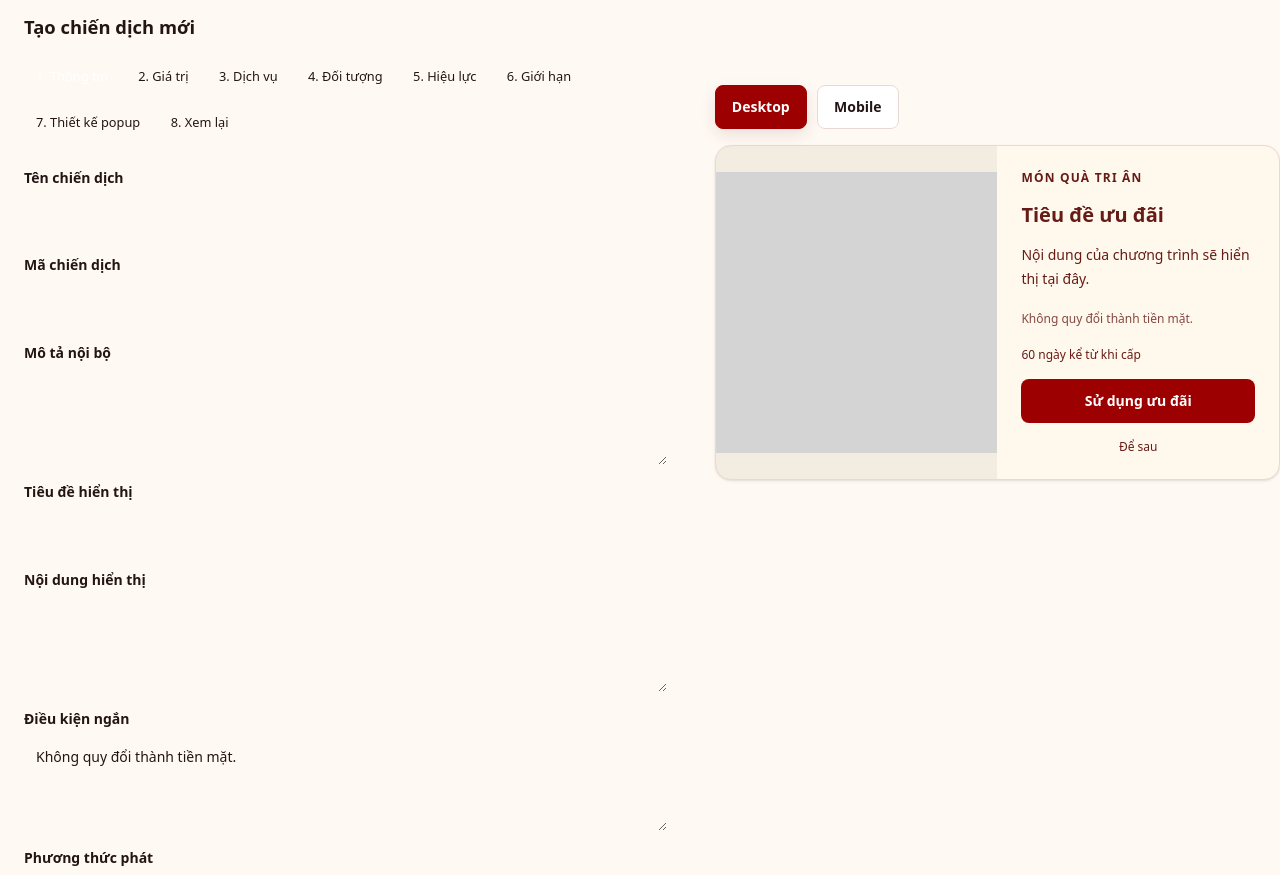
Test: explains account creation dates and rejects an empty audience interval
Step 1. Click the button "4. Đối tượng" → (345, 77), box [296,57,395,97]
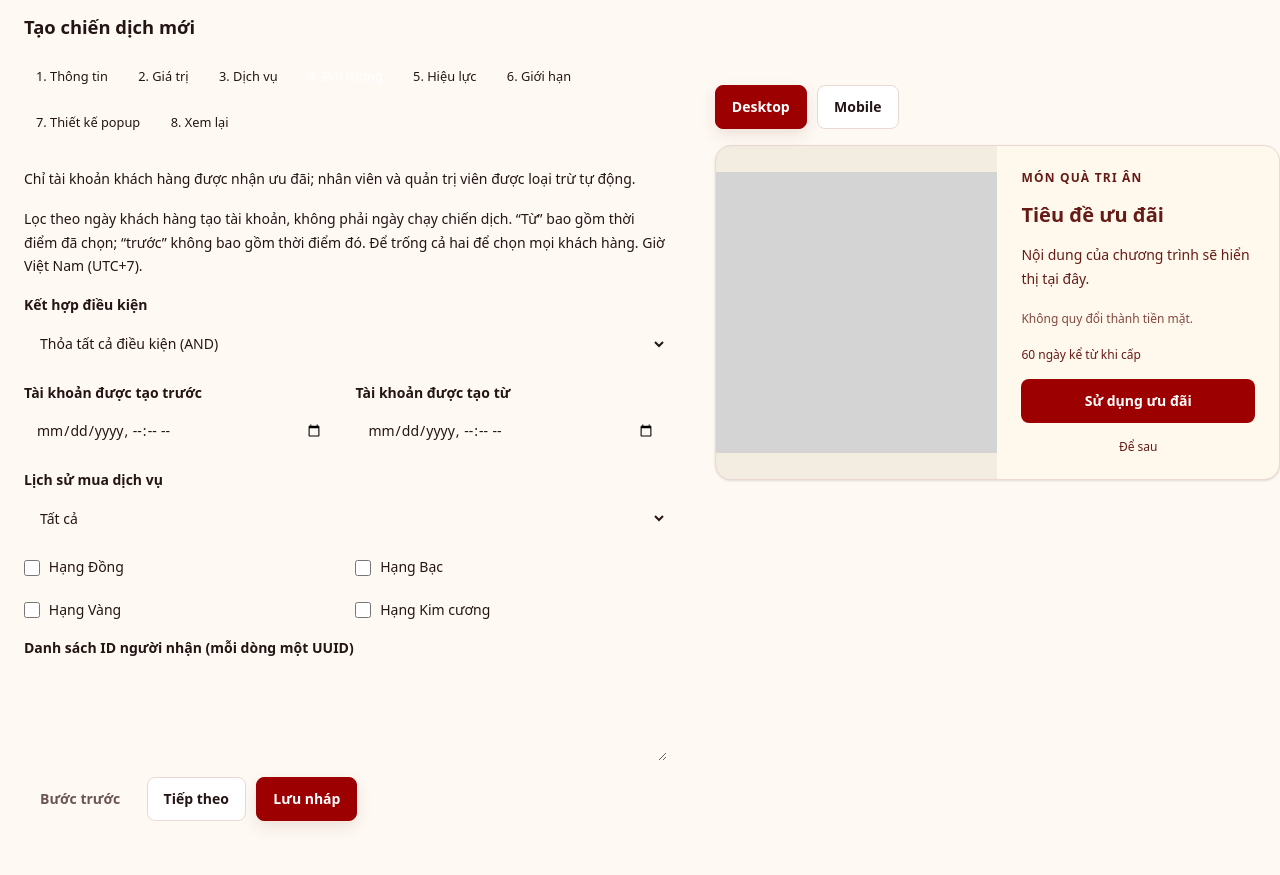
Step 2. Type "2026-08-01T22:03" into the field labelled "Tài khoản được tạo trước" → (180, 431), box [24,409,335,453]
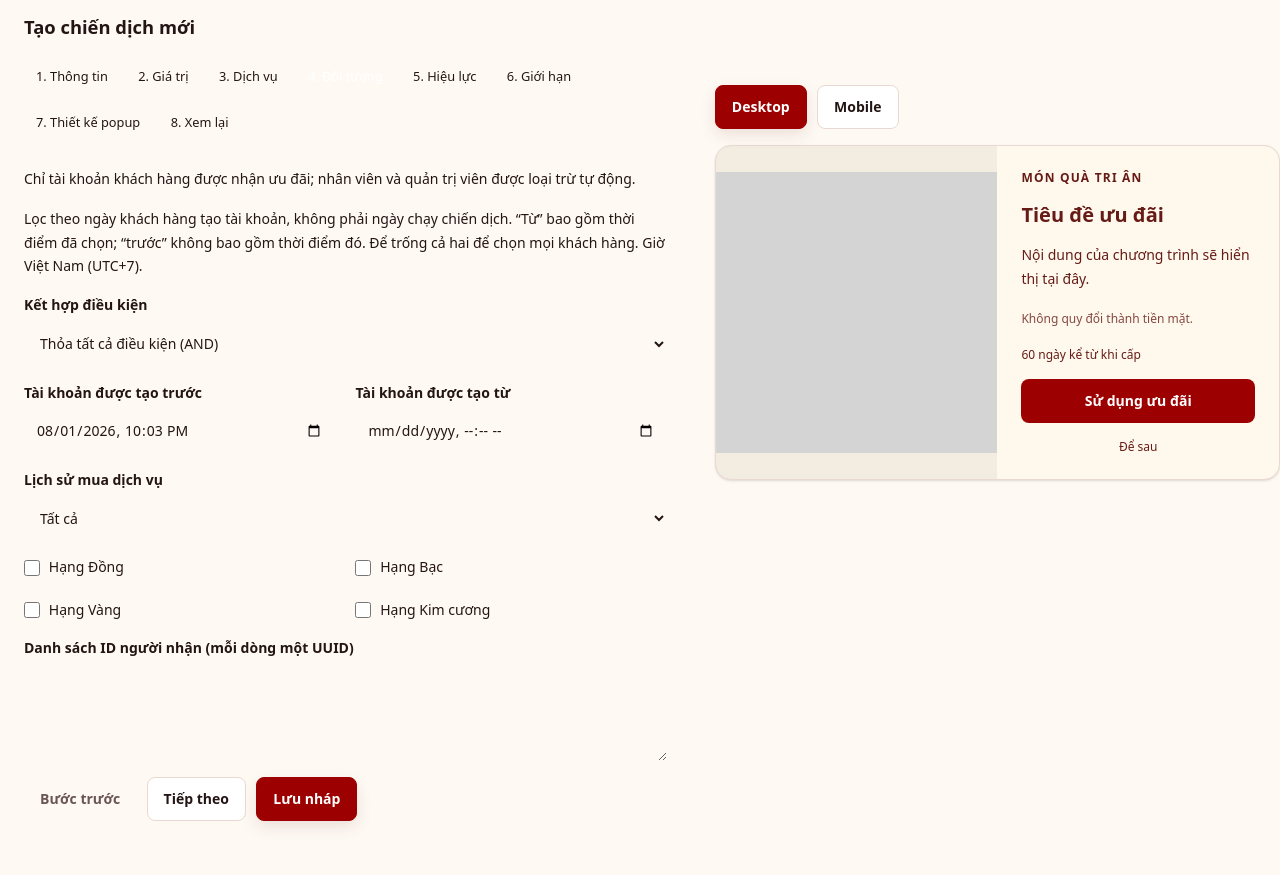
Step 3. Type "2026-08-01T22:03" into the field labelled "Tài khoản được tạo từ" → (511, 431), box [355,409,667,453]
(page scrolled)
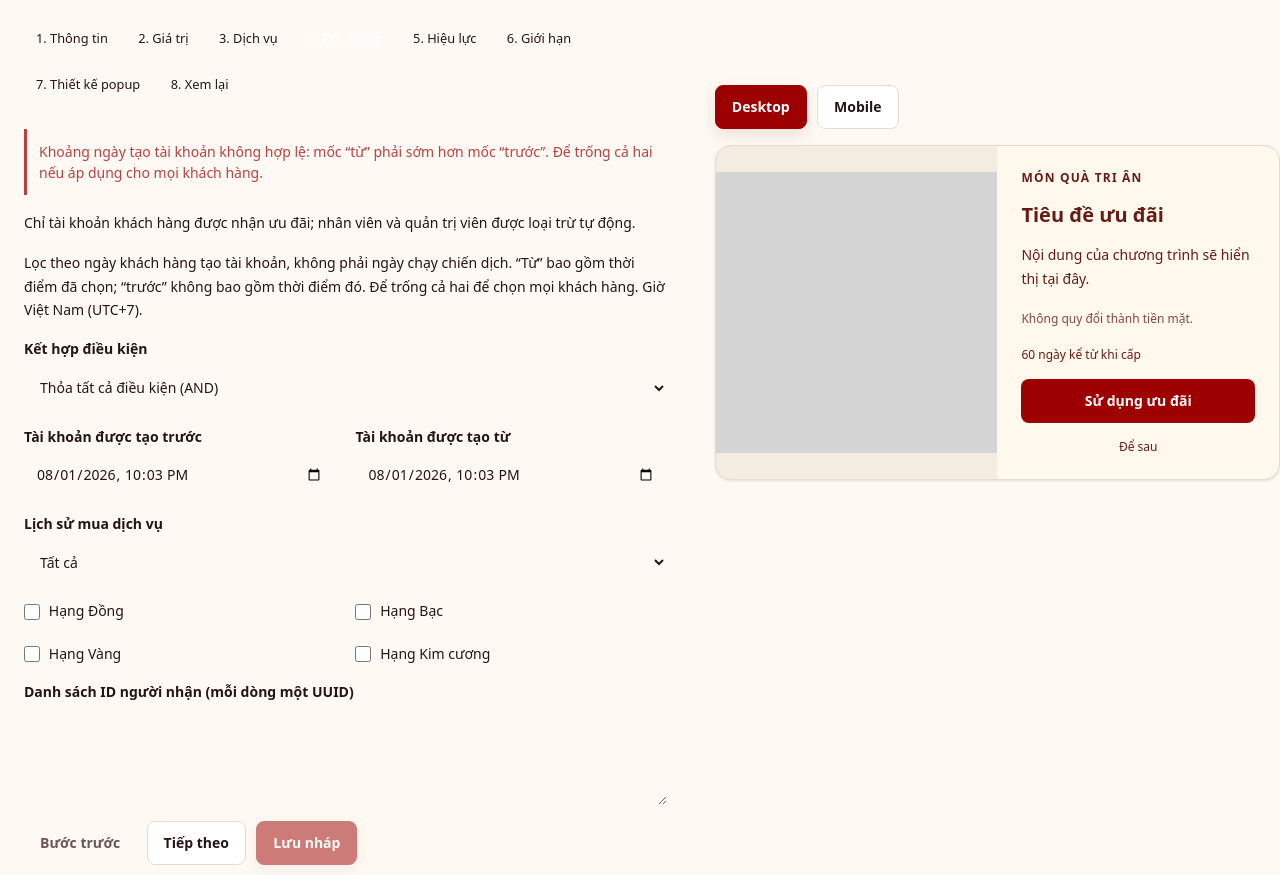
Result: the message shows "không hợp lệ" at [39,142,653,182]
Result: the button "Lưu nháp" is disabled at [256,820,357,864]
